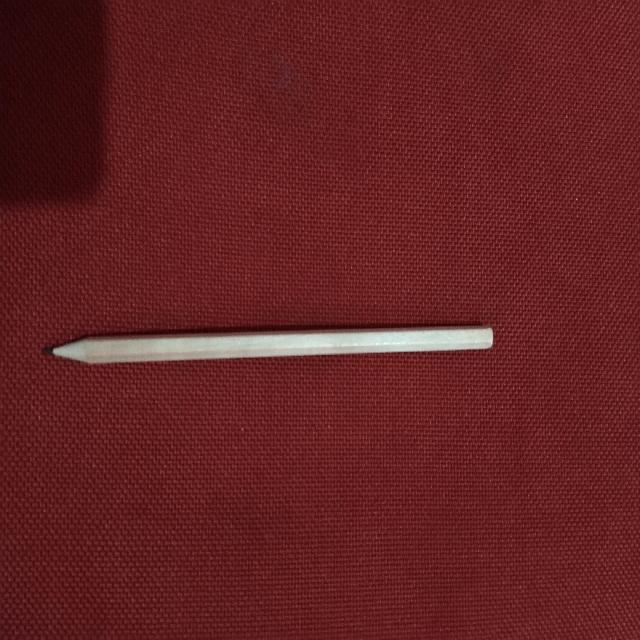pencil: (46, 327, 492, 363)
